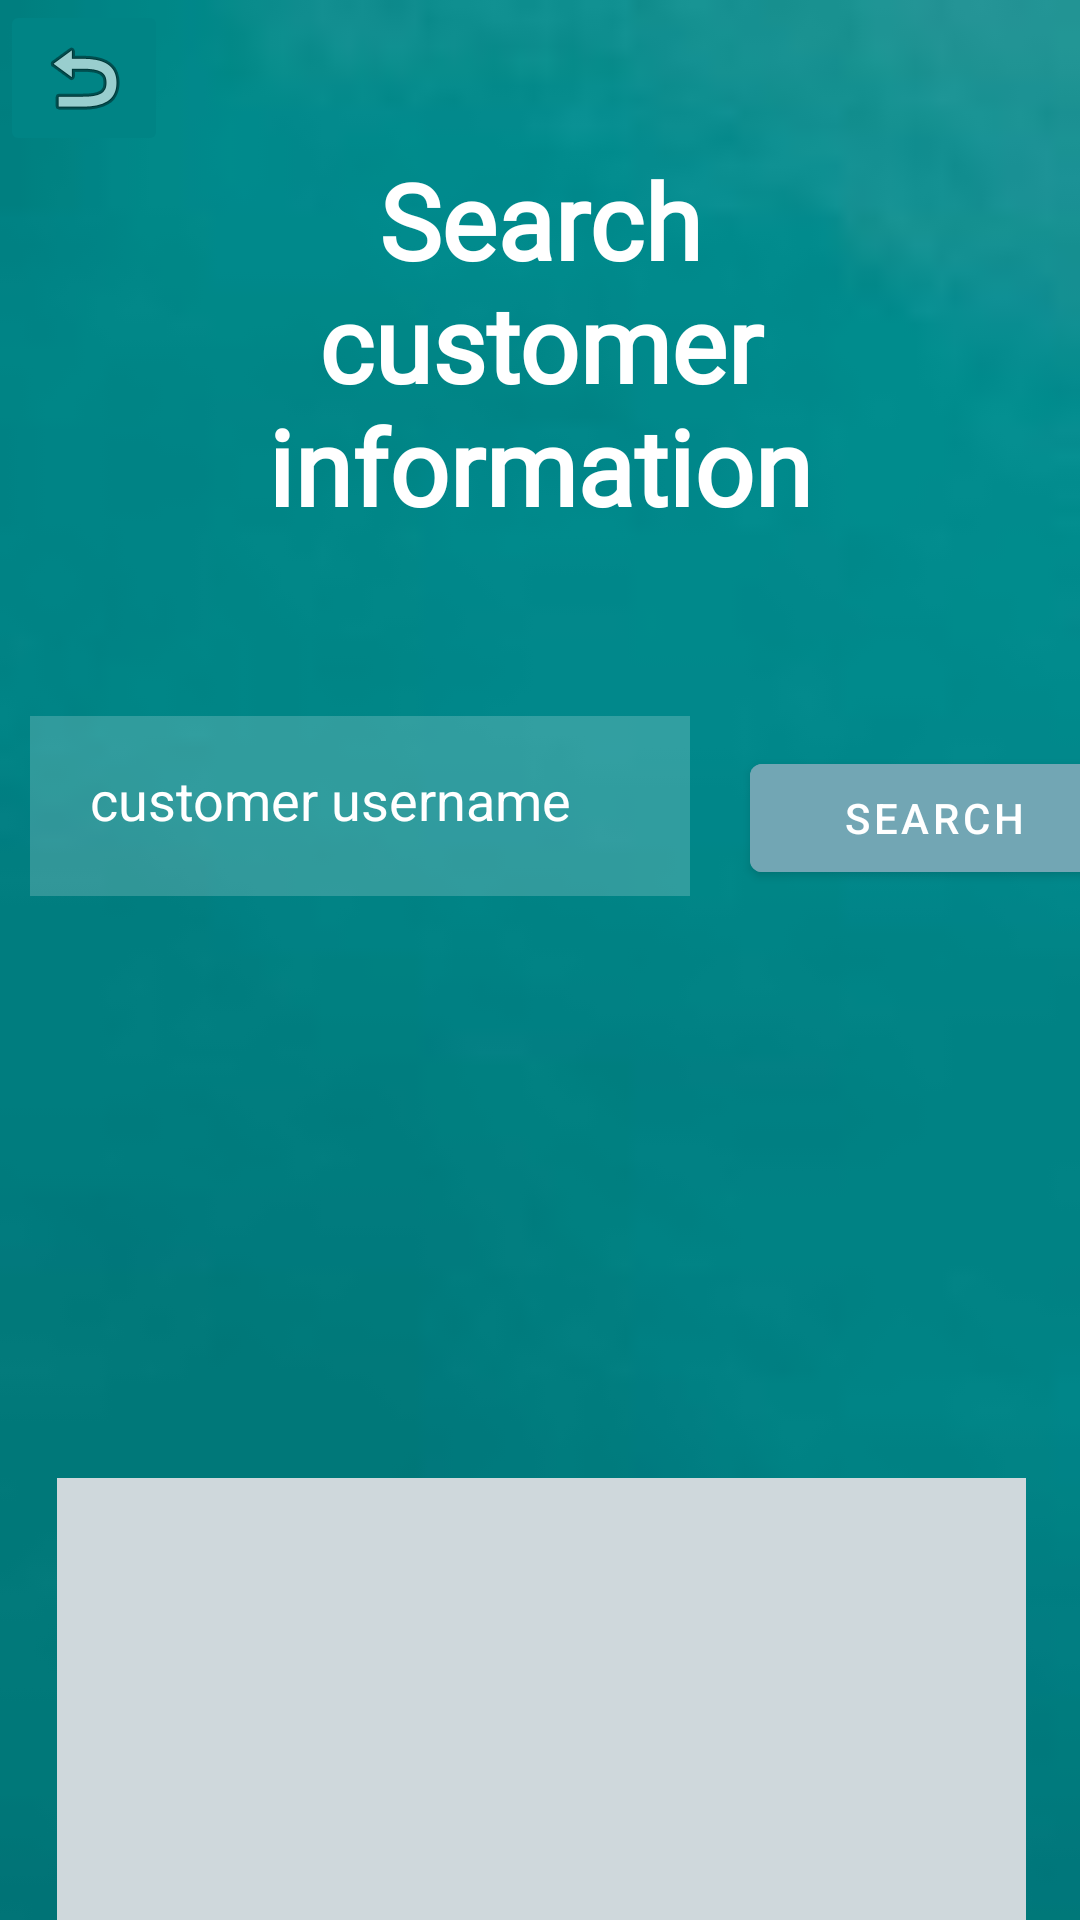

Locate icon controls on the screen. Image size 1080×1920, boxes as (x1=x1, y1=y1, x2=x2, y2=y2).
revert: (x1=51, y1=48, x2=120, y2=110)
